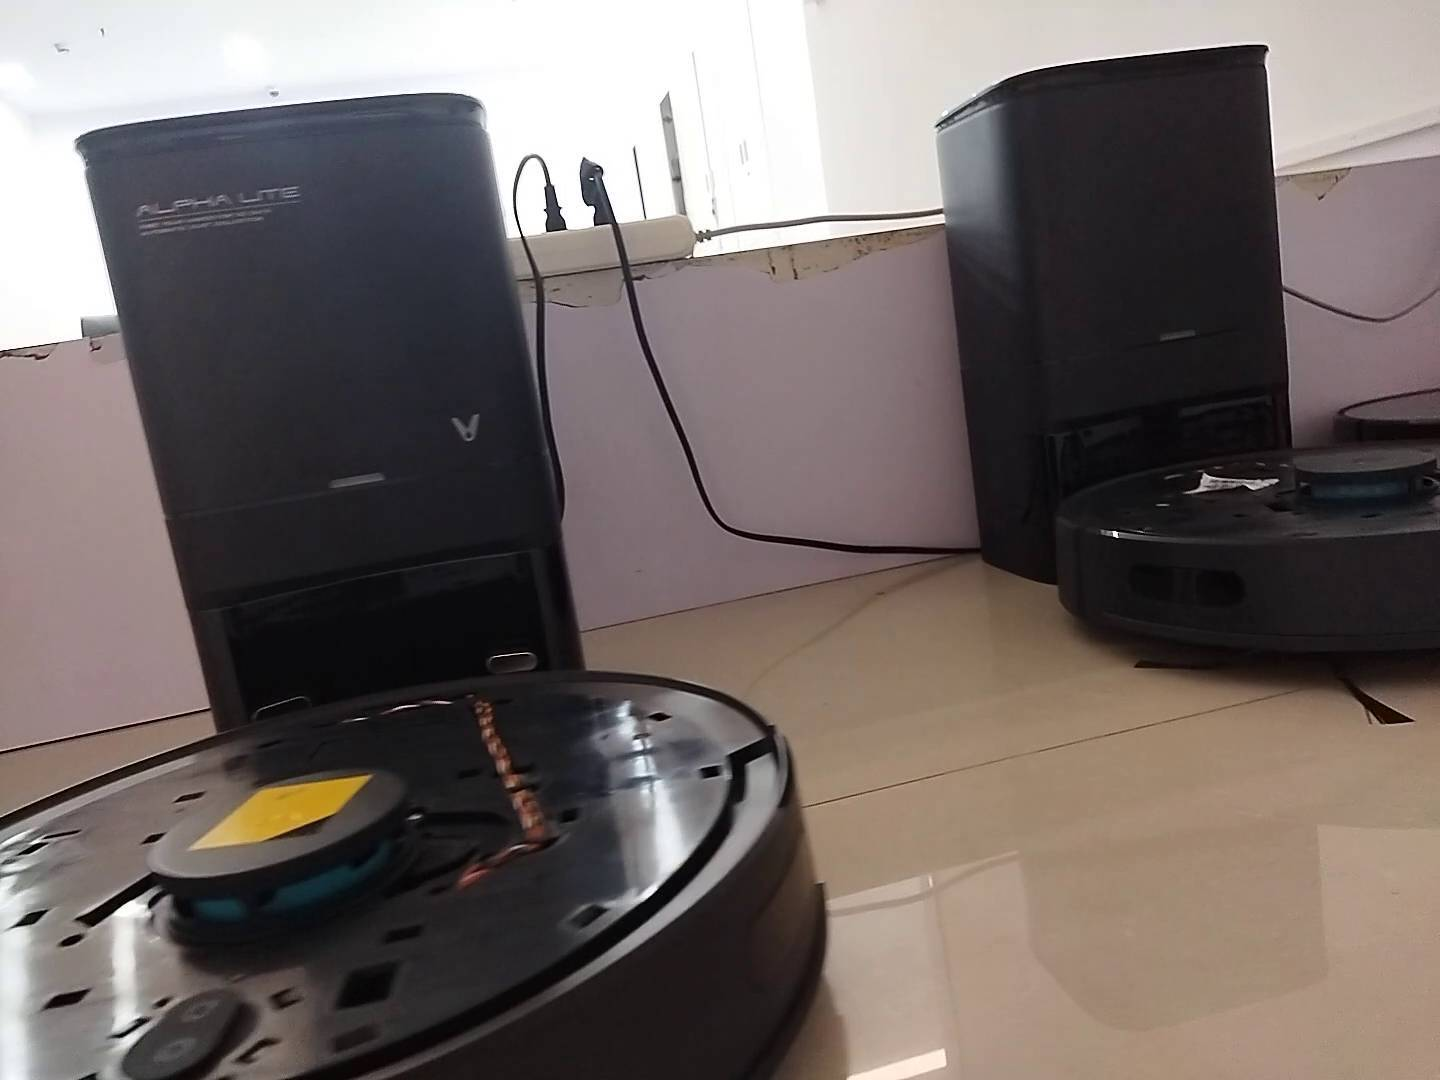dust collecting barrel: (76, 88, 588, 735), (937, 42, 1294, 587)
